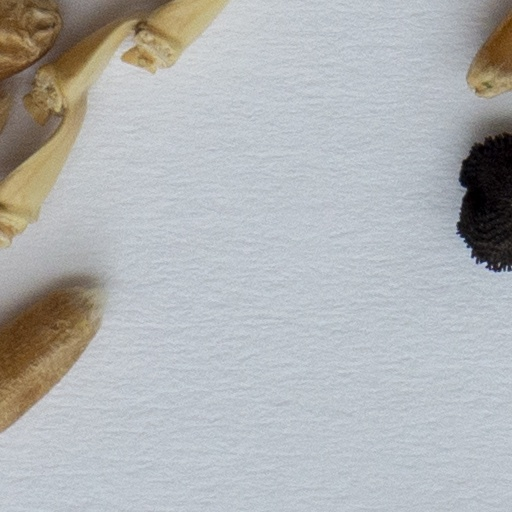Peel-poly: (0, 0, 229, 246)
